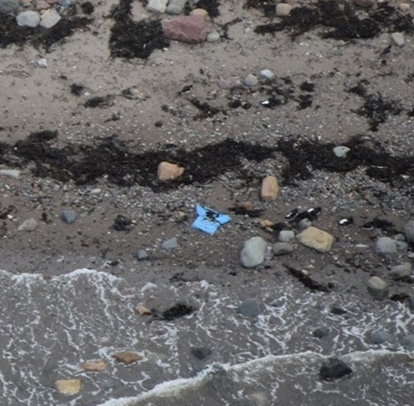white_in_green: (175, 187, 245, 252)
